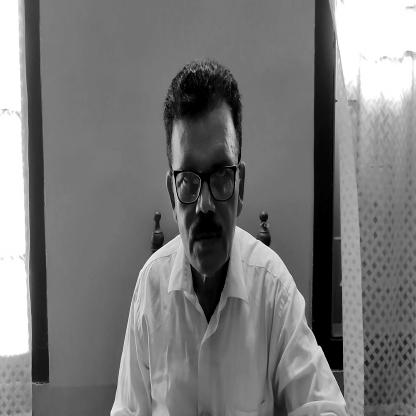Normal: (168, 70, 245, 281)
